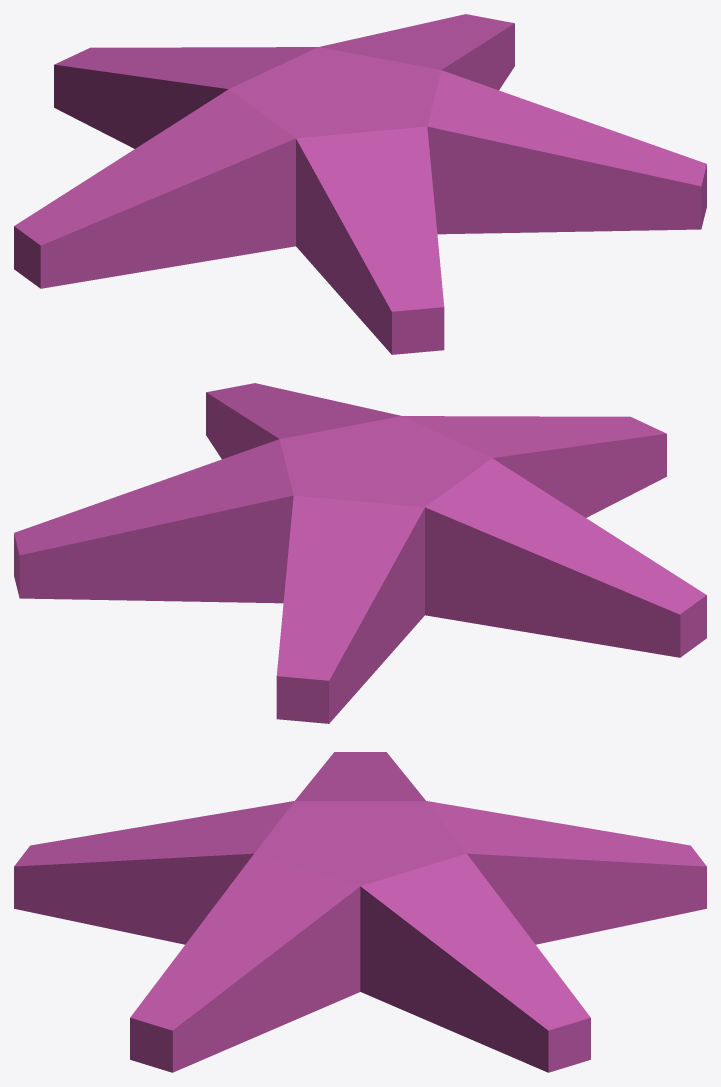
Rendered from Starfish PINK 1.fbx.
3 views of the same model, one above another, from view 1: azimuth 30°, elevation 25°; view 2: azimuth 150°, elevation 25°; view 3: azimuth 270°, elevation 25° (orthographic). The views are drawn at different scales.
Visible parts, largest first — view 1: Cylinder001; view 2: Cylinder001; view 3: Cylinder001.
Part boxes in pixels (x1,y1,x2,y2): Cylinder001: [14, 14, 706, 354]; Cylinder001: [14, 383, 706, 723]; Cylinder001: [14, 752, 706, 1072].
Bounding box in the file's own units: 46.49 × 8.22 × 48.89.
1 material, 1 textured.
